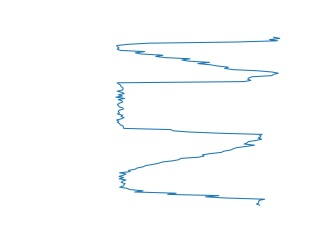distributaryChannelFill: (114, 72, 267, 144)
mouthBar: (113, 33, 283, 79)
underwaterDistributaryChannel: (114, 135, 268, 208)
